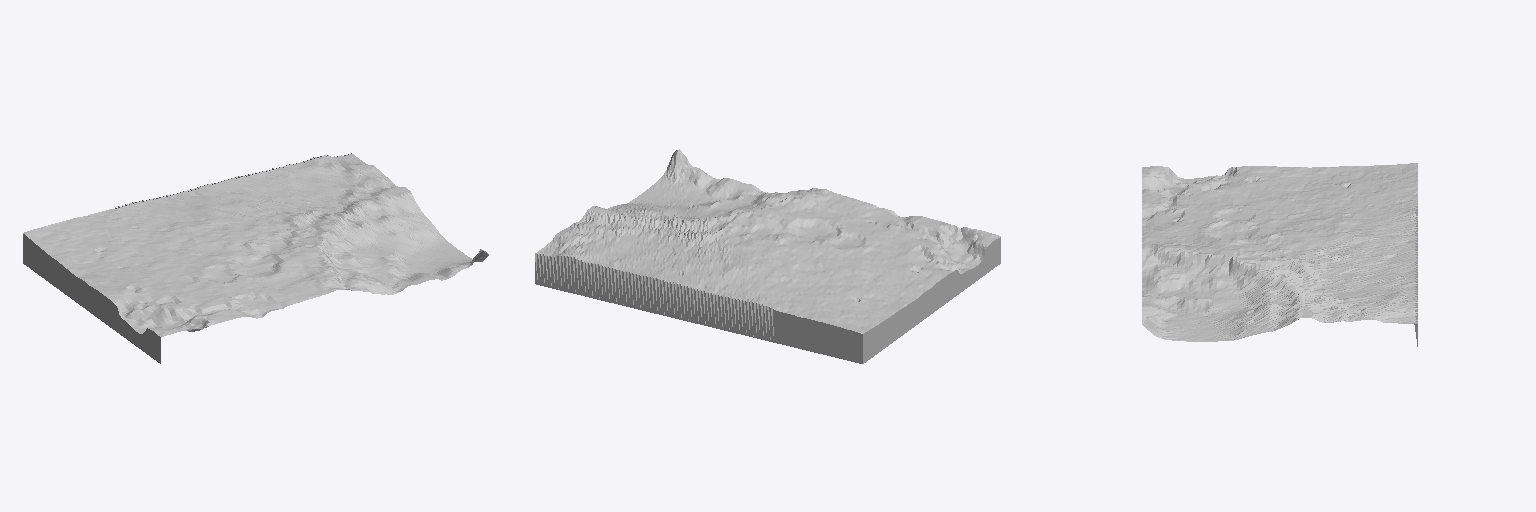
The model's file is gale_crater_LUC.obj.
The picture shows the model from 3 angles: view 1: azimuth 30°, elevation 25°; view 2: azimuth 150°, elevation 25°; view 3: azimuth 270°, elevation 25°; orthographic projection.
Visible parts, largest first — view 1: mesh_LUC; view 2: mesh_LUC; view 3: mesh_LUC.
Boxes of the visible parts, x1=… form: mesh_LUC: x1=23, y1=153, x2=488, y2=363; mesh_LUC: x1=535, y1=149, x2=1000, y2=363; mesh_LUC: x1=1142, y1=163, x2=1417, y2=346.
Size of the model in its own units: 554 by 57.08 by 404.